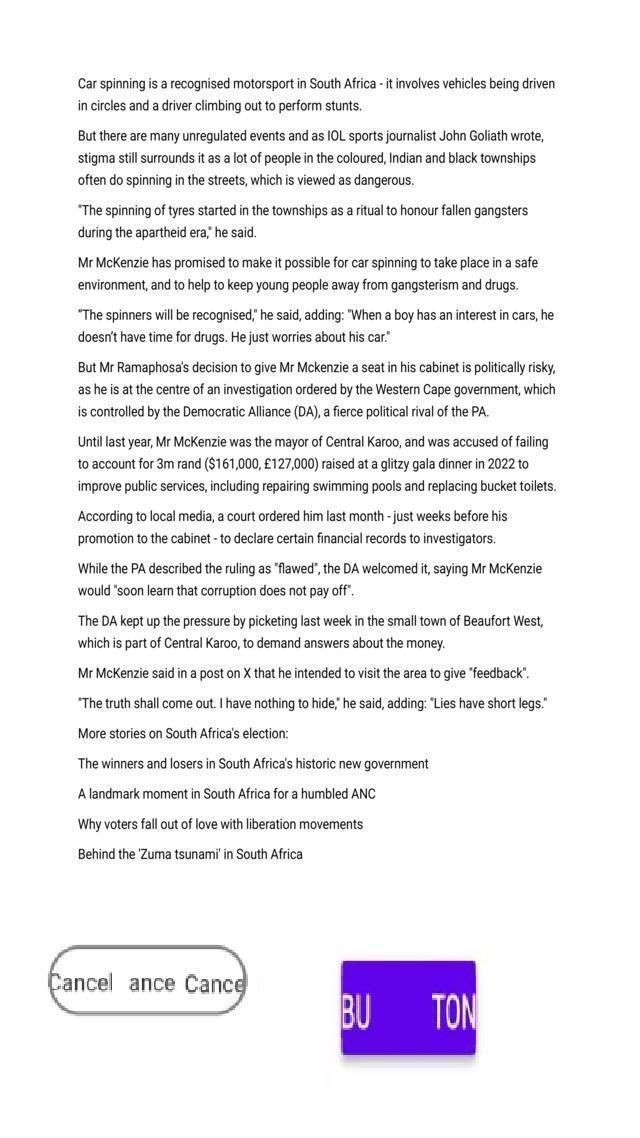Text: (71, 70, 565, 95), (72, 355, 560, 378), (74, 198, 533, 222), (75, 304, 562, 326), (72, 126, 550, 148), (74, 610, 550, 632), (73, 431, 554, 452), (75, 452, 534, 474), (73, 275, 526, 297), (72, 380, 560, 400), (75, 558, 552, 578), (73, 252, 546, 272), (71, 478, 567, 497), (74, 693, 545, 713), (72, 530, 540, 550), (71, 148, 538, 168), (72, 402, 494, 424), (74, 506, 514, 527), (75, 664, 544, 683), (71, 168, 417, 191), (75, 635, 451, 655), (70, 94, 367, 119), (72, 754, 438, 774), (74, 812, 372, 835), (72, 784, 382, 806), (73, 580, 370, 602), (73, 327, 394, 346), (74, 843, 312, 865), (75, 724, 296, 744), (74, 223, 262, 245)
TextButton: (48, 944, 246, 1017), (342, 961, 476, 1057)
WS1: (322, 986, 363, 1033), (464, 988, 490, 1032), (35, 965, 59, 996), (227, 972, 253, 1000)
